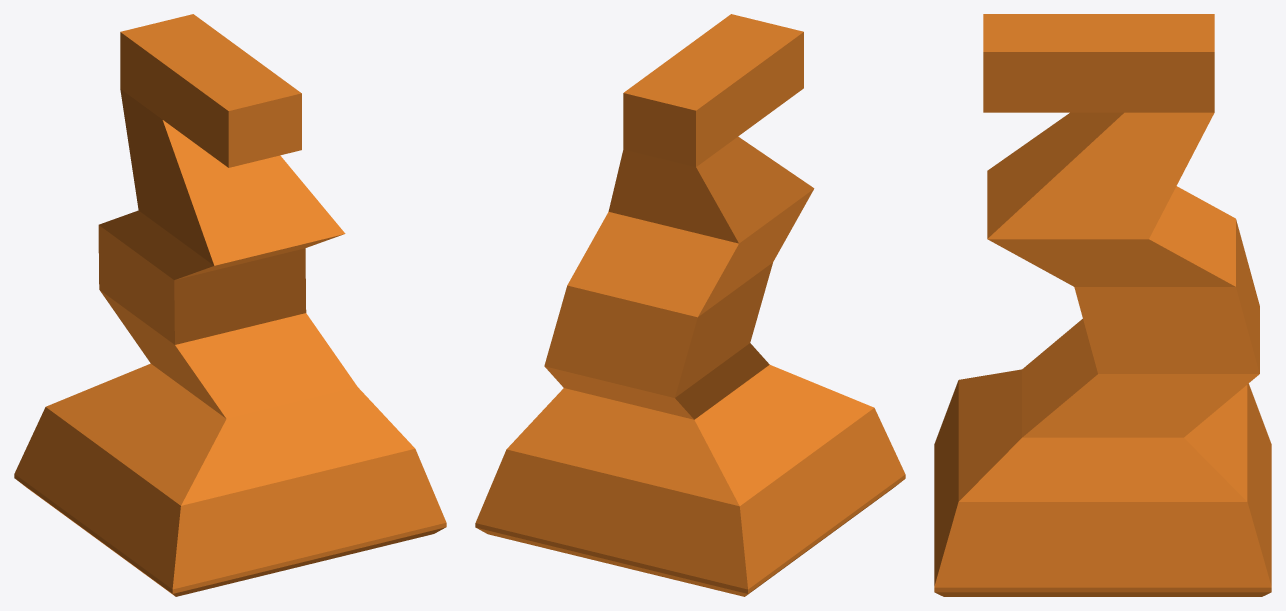
3 renders of one model, left to right at view 1: azimuth 30°, elevation 25°; view 2: azimuth 150°, elevation 25°; view 3: azimuth 270°, elevation 25°, orthographic. The views are drawn at different scales.
Parts seen in each view (by area): view 1: Integrity; view 2: Integrity; view 3: Integrity.
Part boxes in pixels (x1,y1,x2,y2): Integrity: (14,14,446,596); Integrity: (475,14,905,596); Integrity: (934,14,1271,596).
Bounding box in the file's own units: 2000 × 3174 × 2000.
